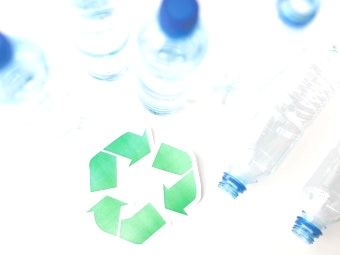plastic: (221, 44, 325, 198), (135, 0, 207, 114), (70, 3, 124, 83), (2, 25, 50, 104)
